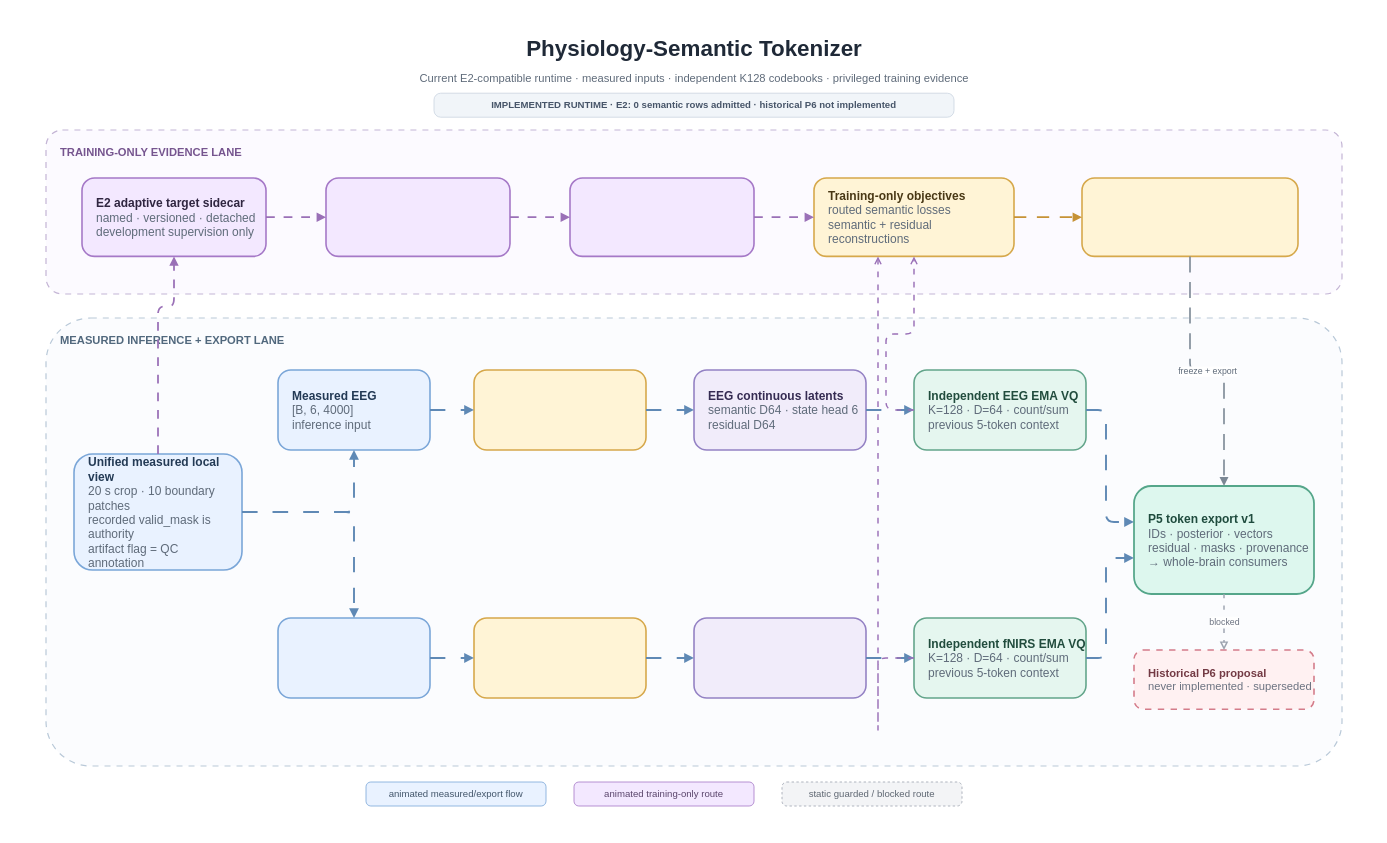
Image size: 1387x843. Some labels were removed from this diagram. The shapes that lost their labels are listed below. From the top down, each one's centre as x and y in pixels, then its label:
point 417,217: Entry-aware adapter local · prototype · context coupling masks · stop-gradient
point 661,217: Routed targets + masks EEG [B,10,6] · fNIRS [B,10,9] boundary + entry validity
point 1189,217: Training lifecycle dry → smoke → formal E2 9/9 dev jobs · frozen checkpoint
point 559,409: EEG patch-local encoder patch + FFT [B,10,6,400] local MLP feature 256
point 353,657: Measured fNIRS HbO / HbR [B, 2, 200] paired anchor input
point 559,657: fNIRS patch-local encoder patch + FFT [B,10,2,20] local MLP feature 160
point 779,657: fNIRS continuous latents semantic D64 · state head 9 residual D32
